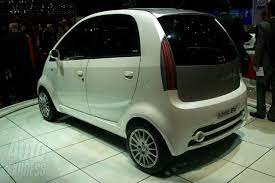Nano: (33, 6, 250, 172)
